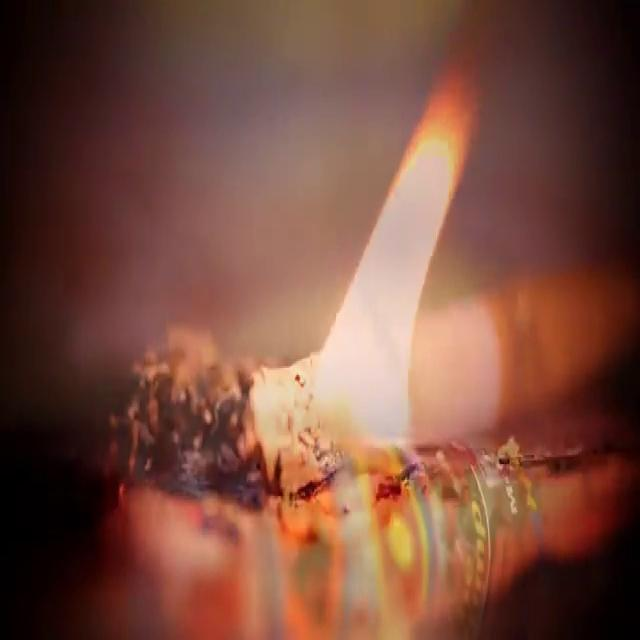fire: (217, 63, 474, 470)
